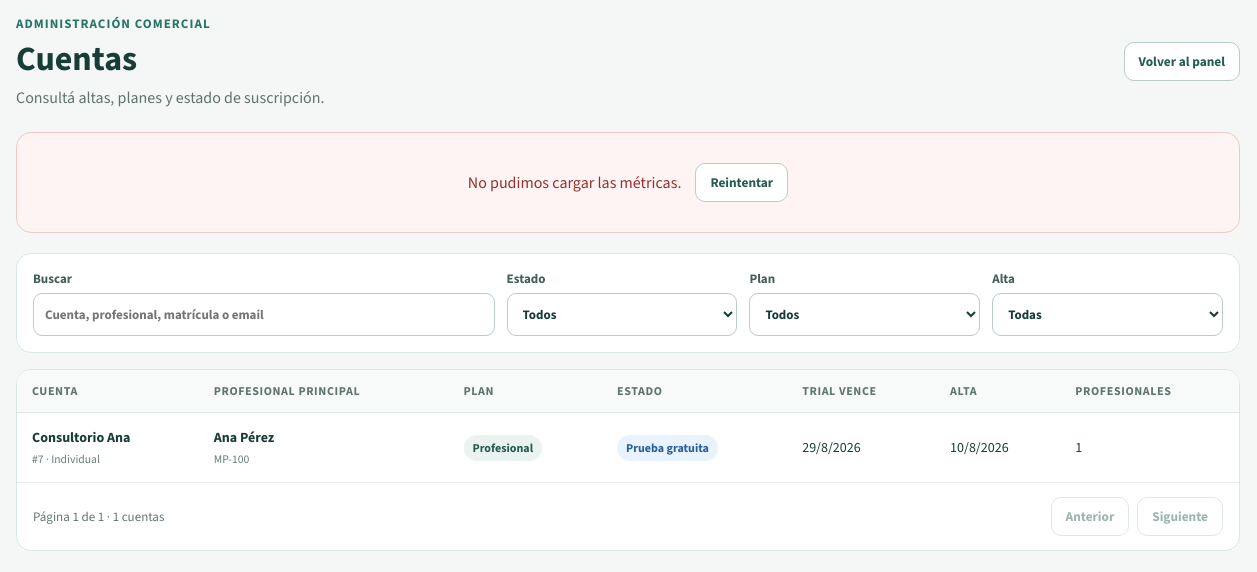
panel administrativo de cuentas › aísla el error de métricas y permite reintentar
Check: the button "Consultorio Ana" is shown, box 32,428 -> 130,447
Check: the message shows "No pudimos cargar las métricas.", box 468,172 -> 681,193
Click the button "Reintentar" at (742, 182), box 695,163 -> 788,202
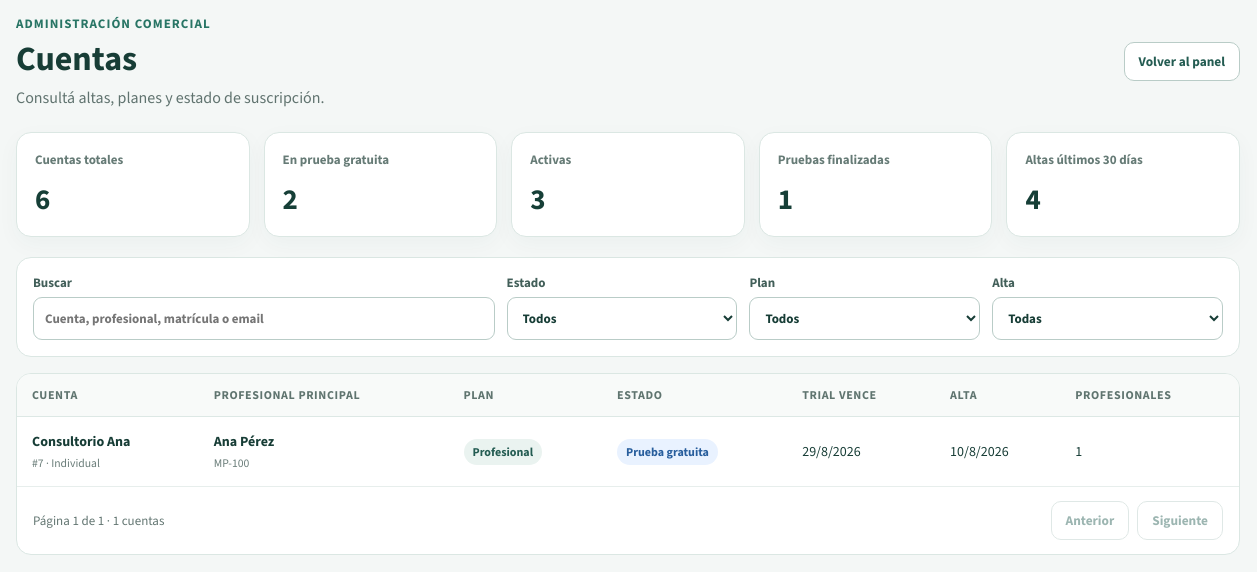
Check: the text "Cuentas totales" is shown, box 35,151 -> 123,168
